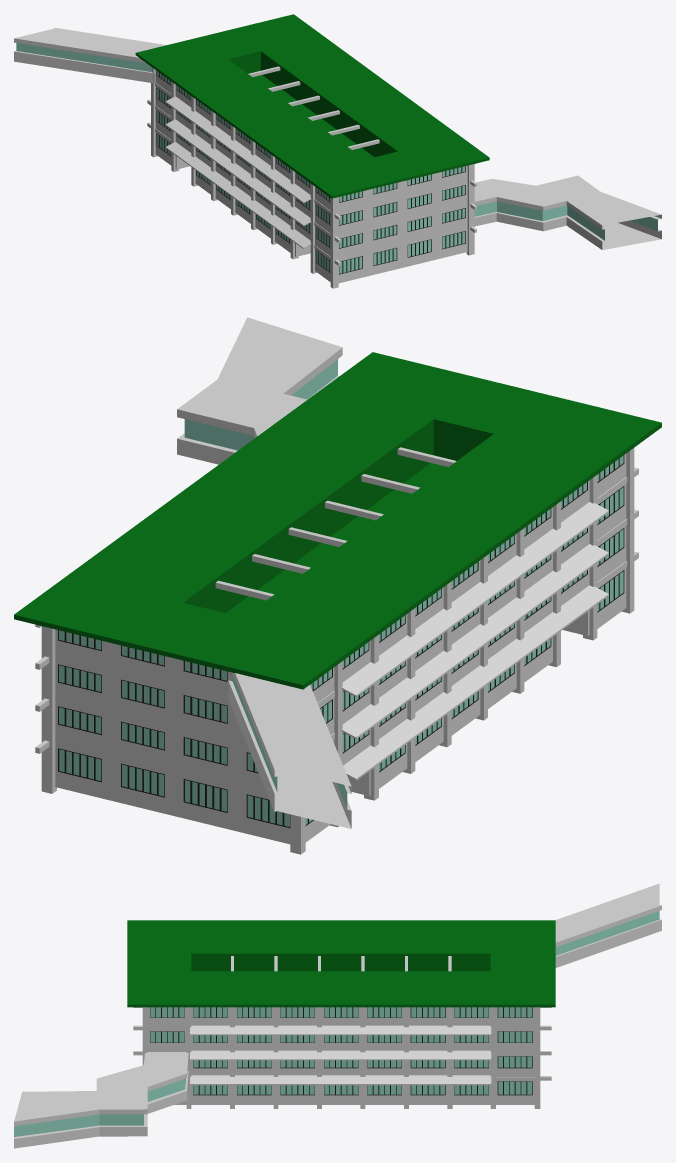
The model's file is St Miguel Hall.fbx.
The picture shows the model from 3 angles, top to bottom: view 1: azimuth 30°, elevation 25°; view 2: azimuth 150°, elevation 25°; view 3: azimuth 270°, elevation 25°; orthographic projection. The views are drawn at different scales.
Parts seen in each view (by area): view 1: St Miguel Hall; view 2: St Miguel Hall; view 3: St Miguel Hall.
Part boxes in pixels (left/top/right/bottom): St Miguel Hall: left=14, top=14, right=661, bottom=288; St Miguel Hall: left=14, top=317, right=661, bottom=854; St Miguel Hall: left=14, top=883, right=661, bottom=1148.
Size of the model in its own units: 136 by 36.68 by 198.
